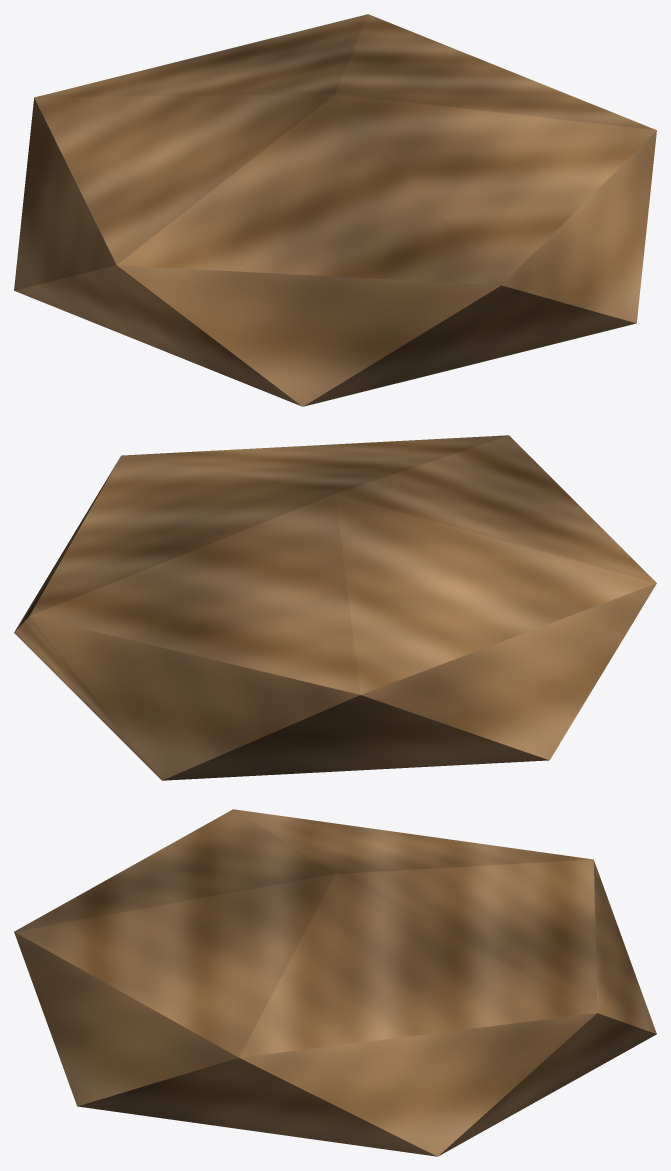
Rendered from 2020_sandstone_talus_15.dae.
3 views of the same model, one above another, from view 1: azimuth 30°, elevation 25°; view 2: azimuth 150°, elevation 25°; view 3: azimuth 270°, elevation 25° (orthographic). The views are drawn at different scales.
Visible parts, largest first — view 1: Node; view 2: Node; view 3: Node.
Boxes of the visible parts, bbox=[...] form: Node: bbox=[14, 14, 656, 406]; Node: bbox=[14, 435, 656, 780]; Node: bbox=[14, 809, 656, 1156].
Bounding box in the file's own units: 0.9894 × 1.08 × 0.4021.
Materials: 1 (1 with a texture image).
